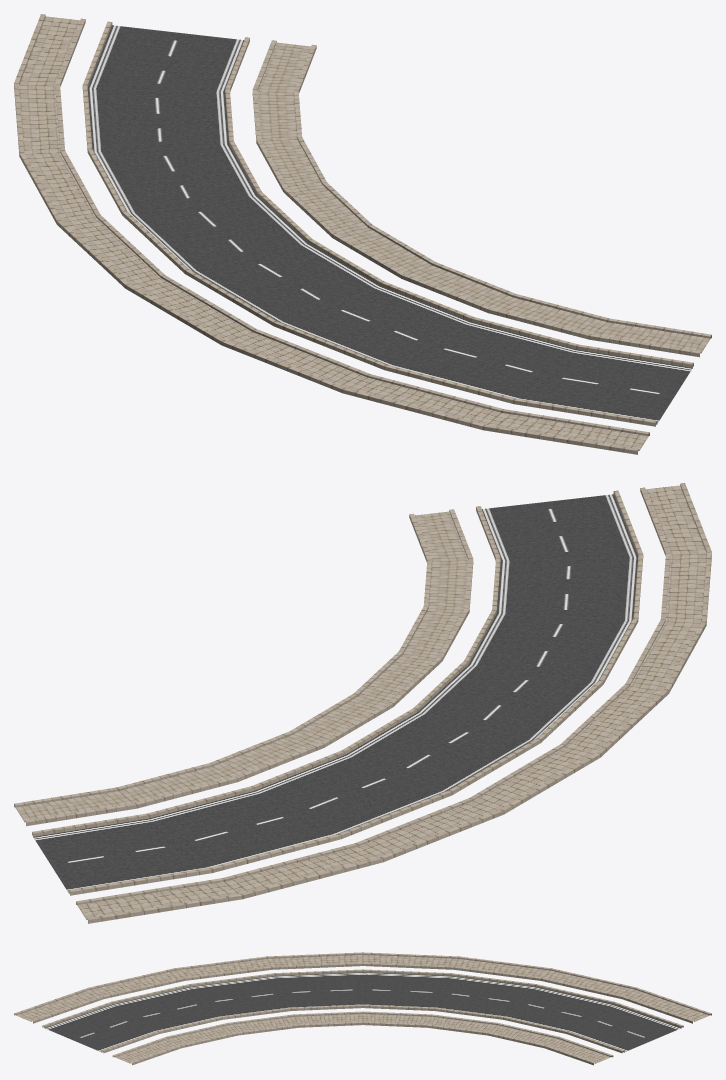
File: Street1LaneTurn90Deg.FBX
3 renders of one model, top to bottom at view 1: azimuth 30°, elevation 25°; view 2: azimuth 150°, elevation 25°; view 3: azimuth 270°, elevation 25°, orthographic. The views are drawn at different scales.
Visible parts, largest first — view 1: Street1LaneTurn90Deg; view 2: Street1LaneTurn90Deg; view 3: Street1LaneTurn90Deg.
Part boxes in pixels (<box>): Street1LaneTurn90Deg: <box>14,14,711,454</box>; Street1LaneTurn90Deg: <box>14,483,711,923</box>; Street1LaneTurn90Deg: <box>14,952,711,1065</box>.
Size of the model in its own units: 32.59 by 0.3 by 86.66.
2 materials, 2 textured.
